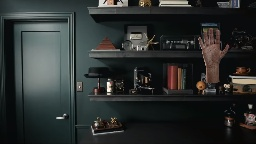Mano_aperta: (196, 26, 229, 65)
